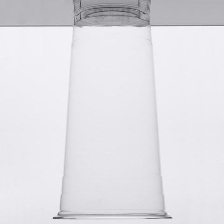glass: (48, 0, 195, 223)
